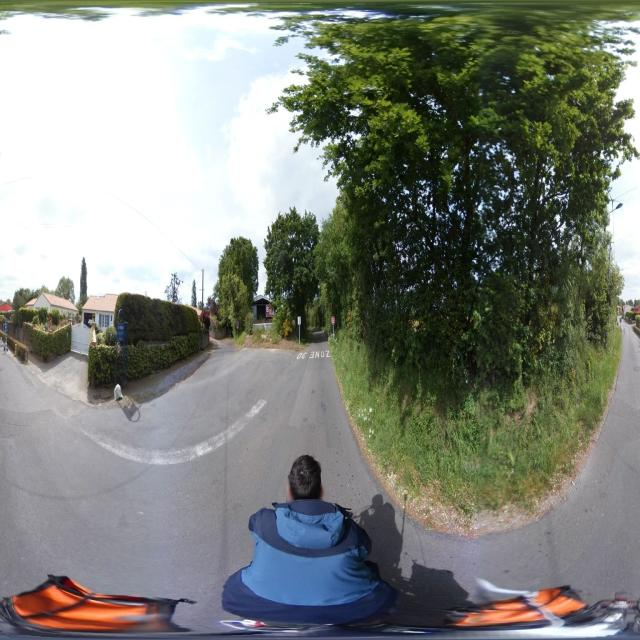forb_stopping: (237, 322, 239, 327)
